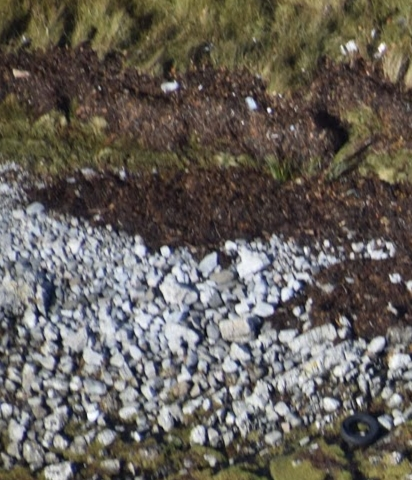scattered_barrel: (326, 12, 401, 71)
white_in_green: (318, 386, 403, 464), (140, 57, 194, 107), (226, 75, 280, 125), (1, 47, 48, 95)
